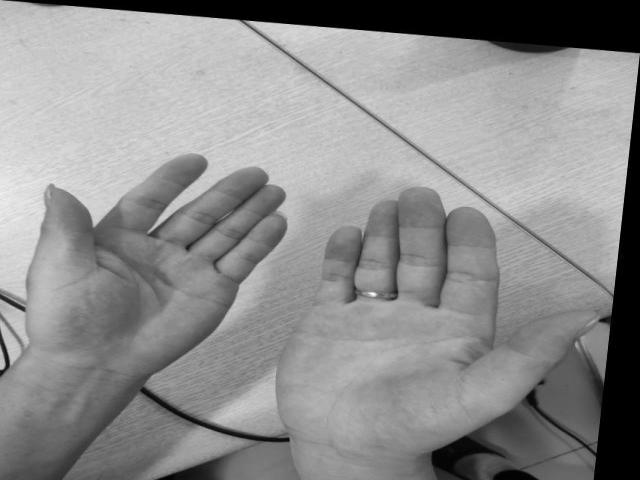not-gloved: (274, 187, 598, 437), (17, 153, 278, 374)
